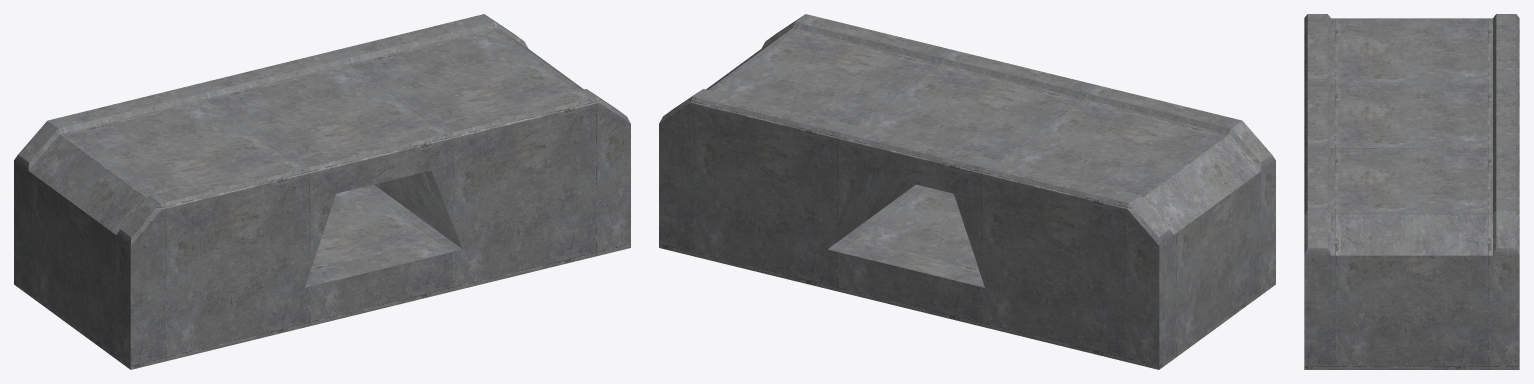
The model's file is Building_Stonebridge.glb.
3 renders of one model, left to right at view 1: azimuth 30°, elevation 25°; view 2: azimuth 150°, elevation 25°; view 3: azimuth 270°, elevation 25°, orthographic. The views are drawn at different scales.
Visible parts, largest first — view 1: xiutz_shiqiao; view 2: xiutz_shiqiao; view 3: xiutz_shiqiao.
Boxes of the visible parts, x1,y1,x2,y2 form: xiutz_shiqiao: [14, 14, 630, 369]; xiutz_shiqiao: [659, 14, 1275, 369]; xiutz_shiqiao: [1304, 14, 1519, 369].
Size of the model in its own units: 11.93 by 3.59 by 4.82.
1 material, 1 textured.
